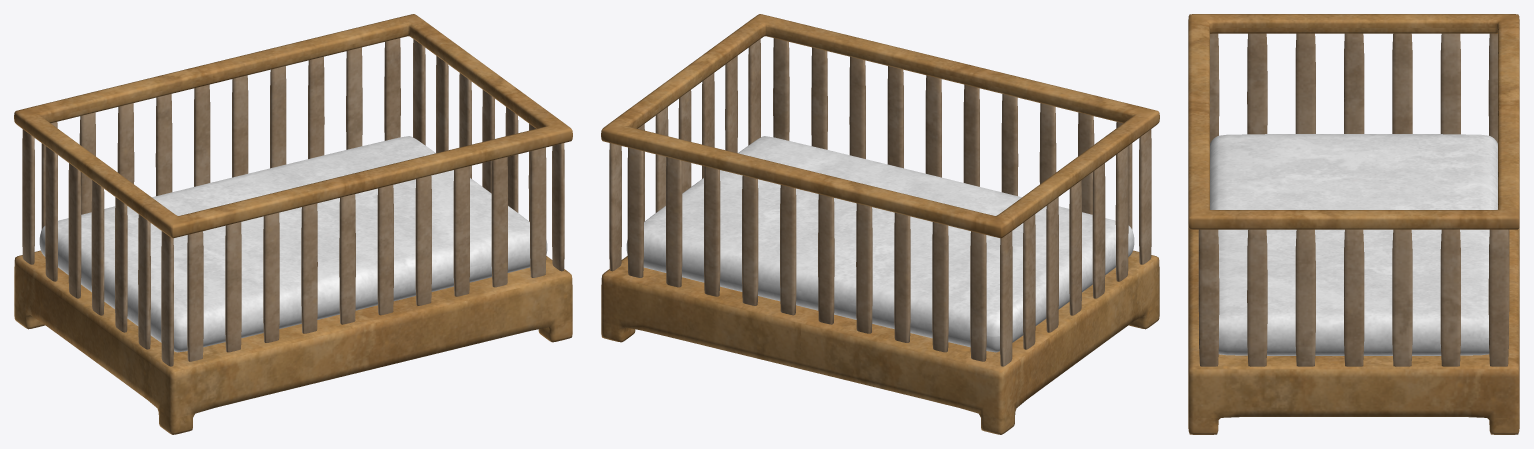
The model's file is Baby Crib.fbx.
3 renders of one model, left to right at view 1: azimuth 30°, elevation 25°; view 2: azimuth 150°, elevation 25°; view 3: azimuth 270°, elevation 25°, orthographic. The views are drawn at different scales.
Visible parts, largest first — view 1: crib; view 2: crib; view 3: crib.
Boxes of the visible parts, bbox=[...] form: crib: bbox=[14, 14, 572, 434]; crib: bbox=[601, 14, 1159, 434]; crib: bbox=[1188, 14, 1519, 434].
Bounding box in the file's own units: 292 × 146 × 200.
1 material, 1 textured.
